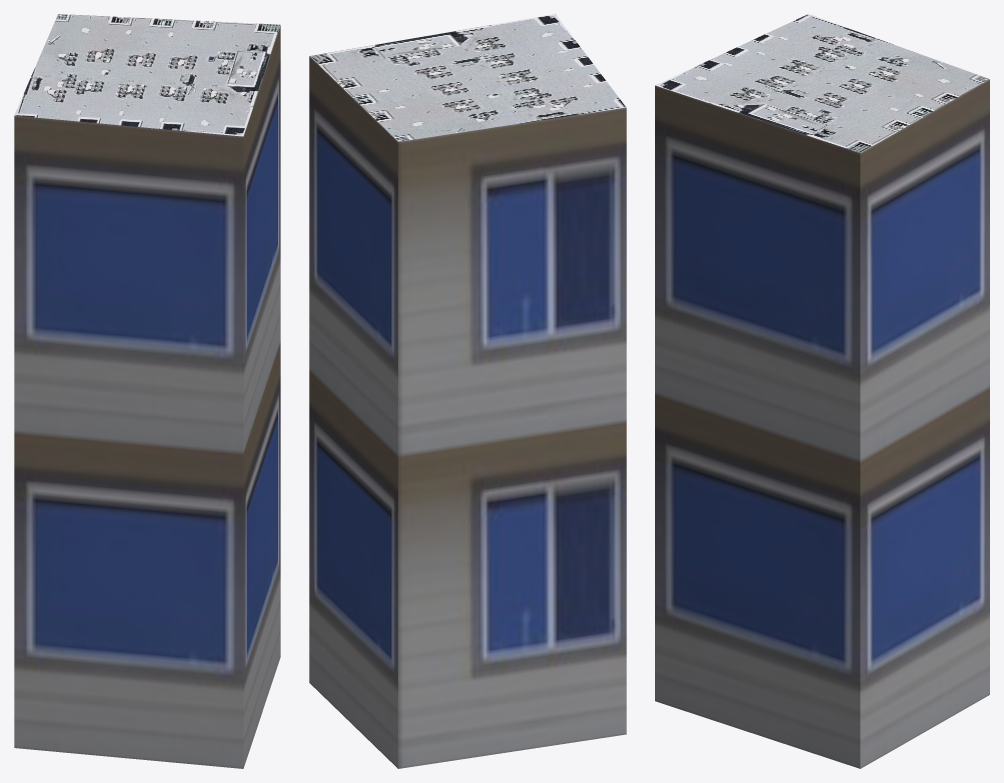
File: ResTex__3407.fbx
3 renders of one model, left to right at view 1: azimuth 30°, elevation 25°; view 2: azimuth 150°, elevation 25°; view 3: azimuth 270°, elevation 25°, orthographic. The views are drawn at different scales.
Parts seen in each view (by area): view 1: CityEngineMaterial_23_m, CityEngineMaterial_m; view 2: CityEngineMaterial_23_m, CityEngineMaterial_m; view 3: CityEngineMaterial_23_m, CityEngineMaterial_m.
Part boxes in pixels (left/top/right/bottom): CityEngineMaterial_23_m: left=14, top=25, right=280, bottom=768; CityEngineMaterial_m: left=14, top=14, right=280, bottom=136; CityEngineMaterial_23_m: left=309, top=56, right=626, bottom=768; CityEngineMaterial_m: left=310, top=14, right=626, bottom=141; CityEngineMaterial_23_m: left=655, top=79, right=989, bottom=768; CityEngineMaterial_m: left=655, top=14, right=989, bottom=152.
Bounding box in the file's own units: 2.91 × 6 × 2.96.
Materials: 2 (2 with a texture image).
